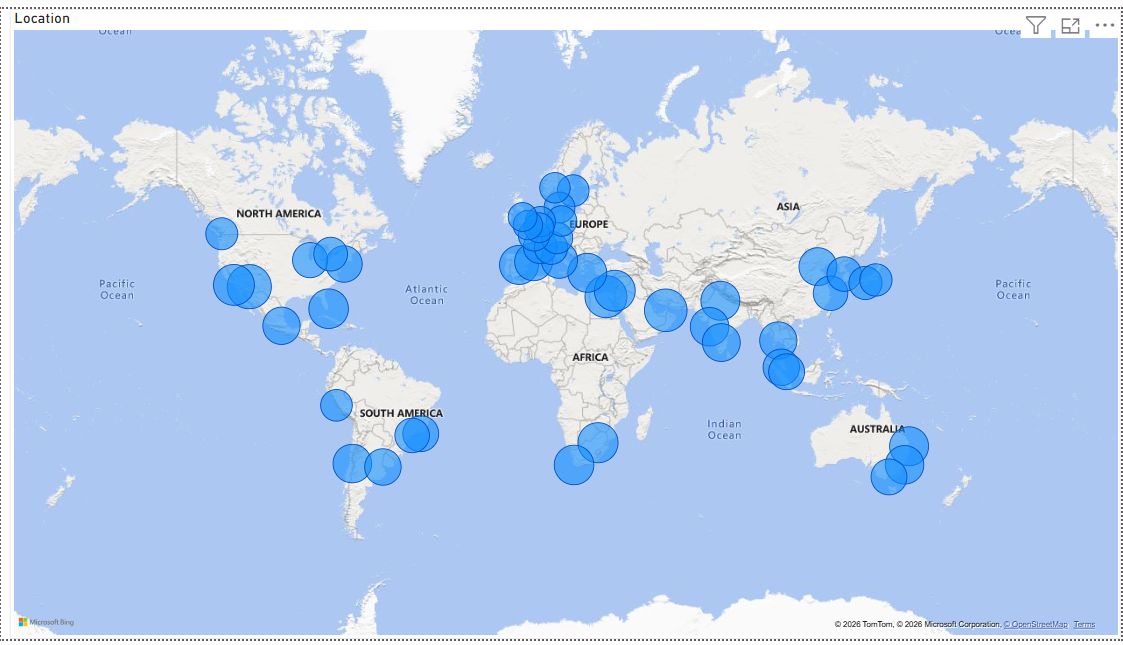

The dashboard page shown, as its layout file describes it:
{"tool":"powerbi","page":{"name":"Map Visual","canvas":[1280,720],"ordinal":4},"visuals":[{"type":"map","title":"Location","fields":{"Y":["solar_project solar_energy_worldwide.Latitude"],"X":["solar_project solar_energy_worldwide.Longitude"],"Size":["Sum(solar_project solar_energy_worldwide.ROI_Percentage)"]},"box":[9.8,0,1270.5,720.2],"z":0}]}

Visuals, with their boxes in screenshot pixels (x1, y1, x2, y2), scaled from the page's 1280x720 canvas onto the 1123x645 screenshot:
"Location" map: crop(9, 0, 1122, 644)
